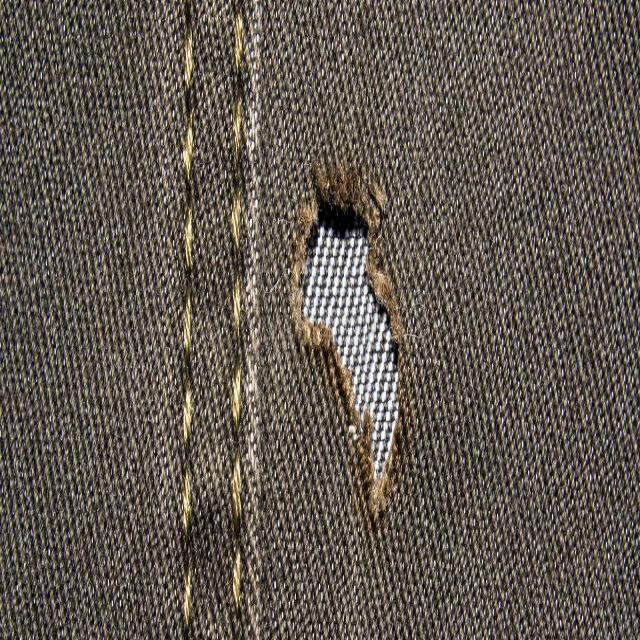Hole: (293, 166, 409, 528)
Line: (230, 0, 258, 640), (181, 0, 195, 640)
